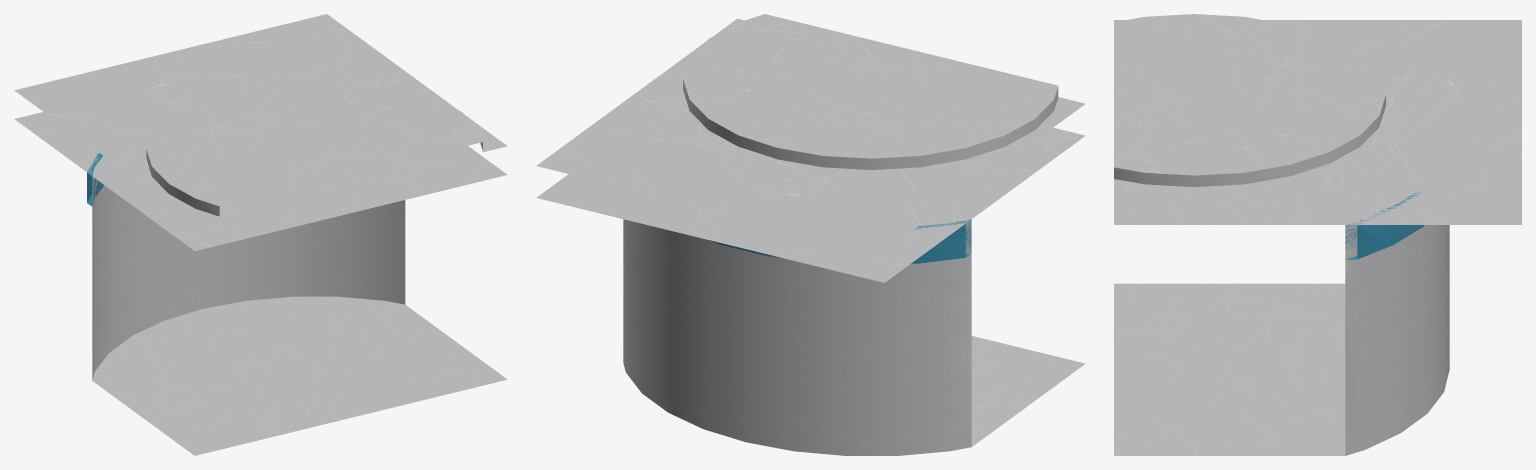
The model's file is Cube02_RotatingTableStation.glb.
The picture shows the model from 3 angles, left to right: view 1: azimuth 30°, elevation 25°; view 2: azimuth 150°, elevation 25°; view 3: azimuth 270°, elevation 25°; orthographic projection. The views are drawn at different scales.
Visible parts, largest first — view 1: color[1]; view 2: color[1]; view 3: color[1].
Part boxes in pixels (x1,y1,x2,y2): color[1]: [14, 14, 507, 455]; color[1]: [536, 14, 1085, 455]; color[1]: [1114, 14, 1521, 455].
Bounding box in the file's own units: 0.32 × 0.238 × 0.32.
2 materials, 2 textured.
